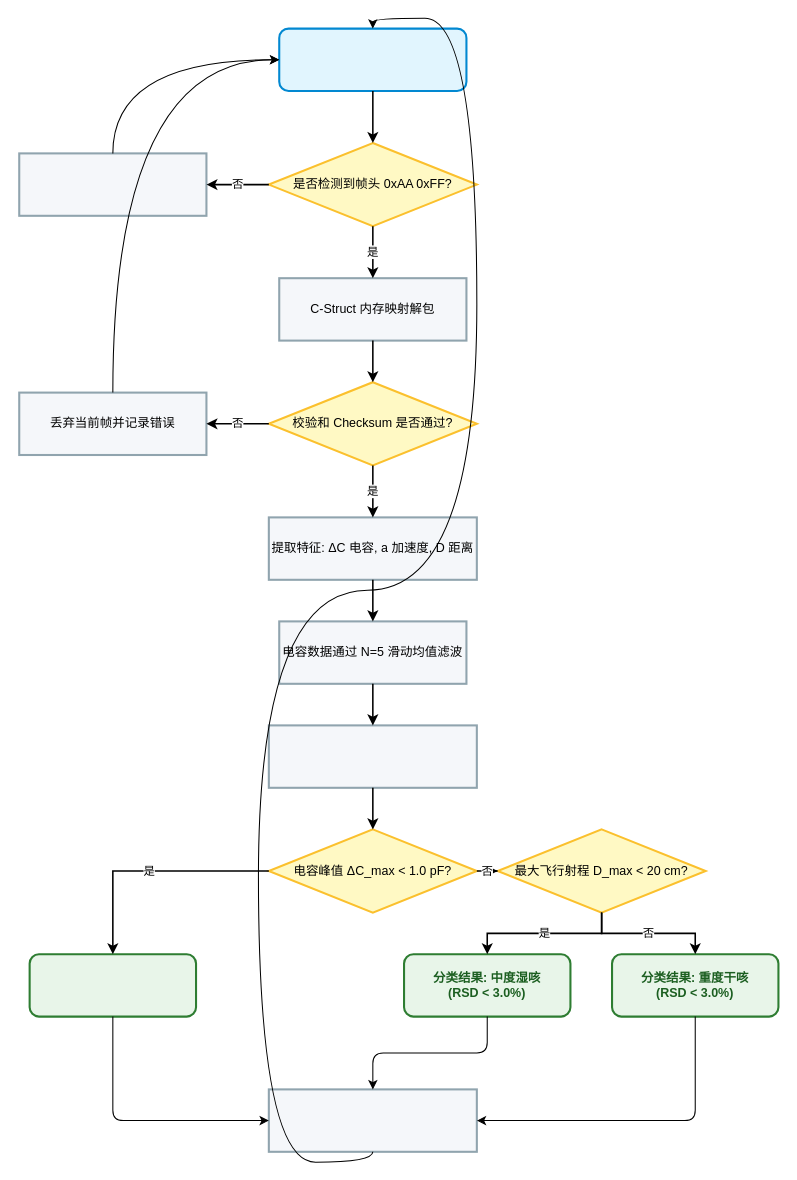
The diagram is 797 pixels wide and 1180 high, and some of its shapes have lost their labels. The box of each missing label's shape, as (x1, y1, x2, y2) in pixels:
上位机显示分类类别 & 实时波形绘制: (267, 1088, 477, 1152)
分类结果: 轻度咳唾 (RSD < 3.0%): (28, 953, 197, 1017)
开始: 接收 WiFi TCP 字节流: (278, 27, 467, 92)
滑动滑动窗口/丢弃错位字节: (18, 152, 207, 216)
计算特征峰值: ΔC_max, a_max, D_max: (267, 724, 477, 788)
